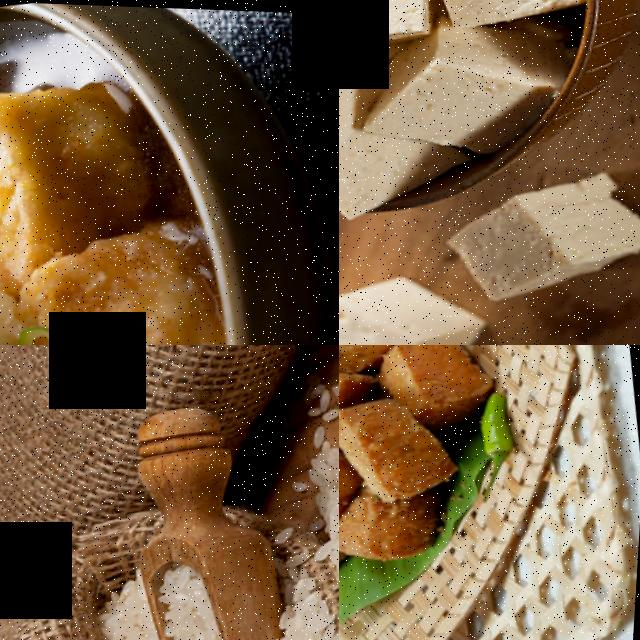tofu: (448, 163, 640, 306), (366, 27, 569, 142), (339, 383, 471, 508), (339, 264, 502, 345), (339, 34, 386, 186), (339, 0, 450, 60), (414, 0, 592, 34), (339, 345, 370, 446)
